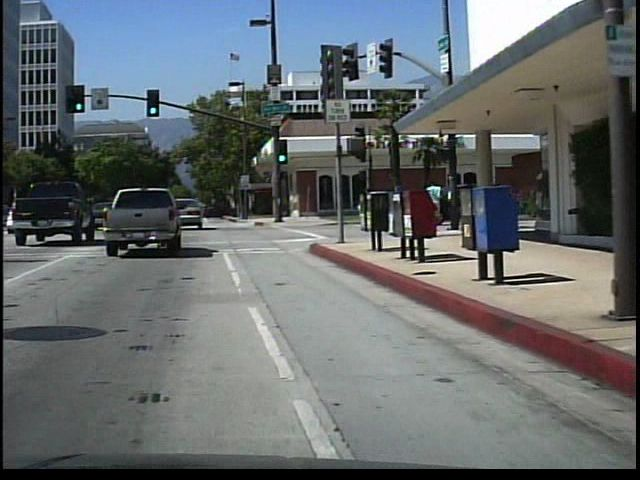car: (8, 181, 94, 247), (103, 189, 190, 248), (176, 197, 208, 231)
